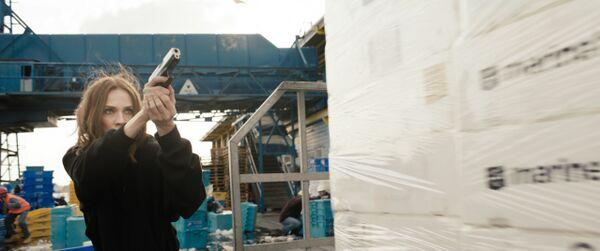Gun: (149, 47, 183, 88)
